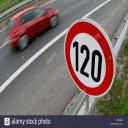speed_limit_120: (63, 17, 116, 100)
